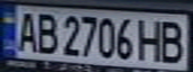0: (97, 15, 118, 60)
2: (57, 11, 81, 56)
6: (115, 15, 139, 61)
7: (78, 12, 100, 59)
A: (12, 8, 39, 53)
B: (157, 17, 190, 64), (33, 10, 60, 55)
H: (136, 16, 166, 62)
